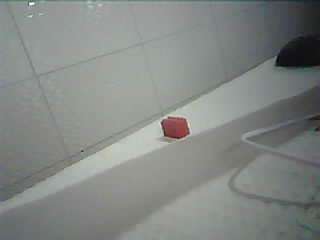lego: (158, 116, 191, 139)
